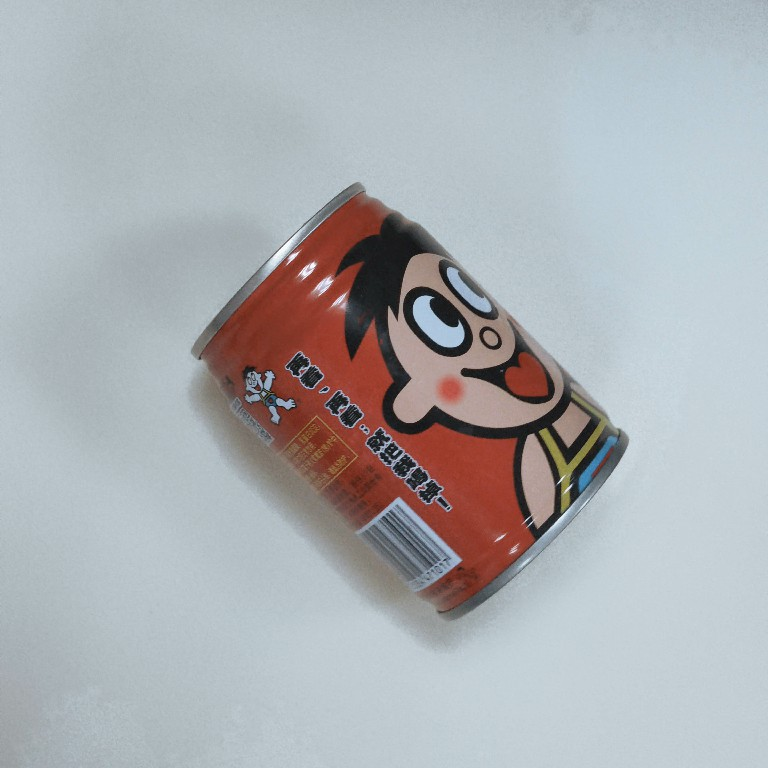can: (181, 174, 633, 626)
